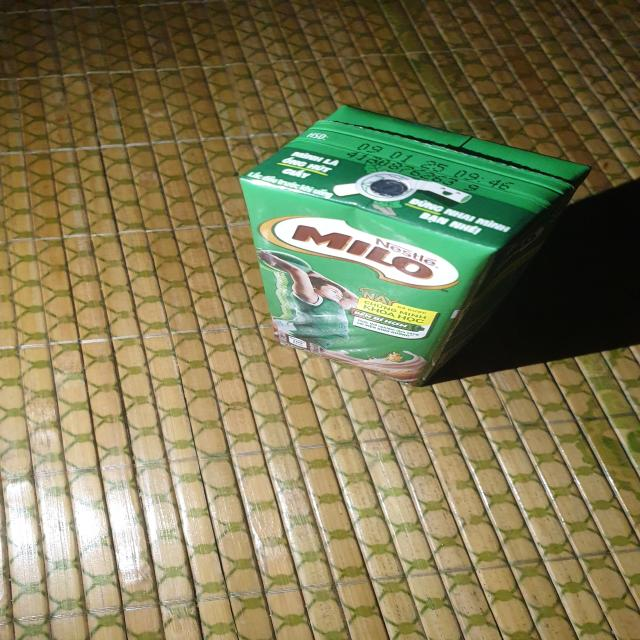Milo: (241, 109, 591, 377)
